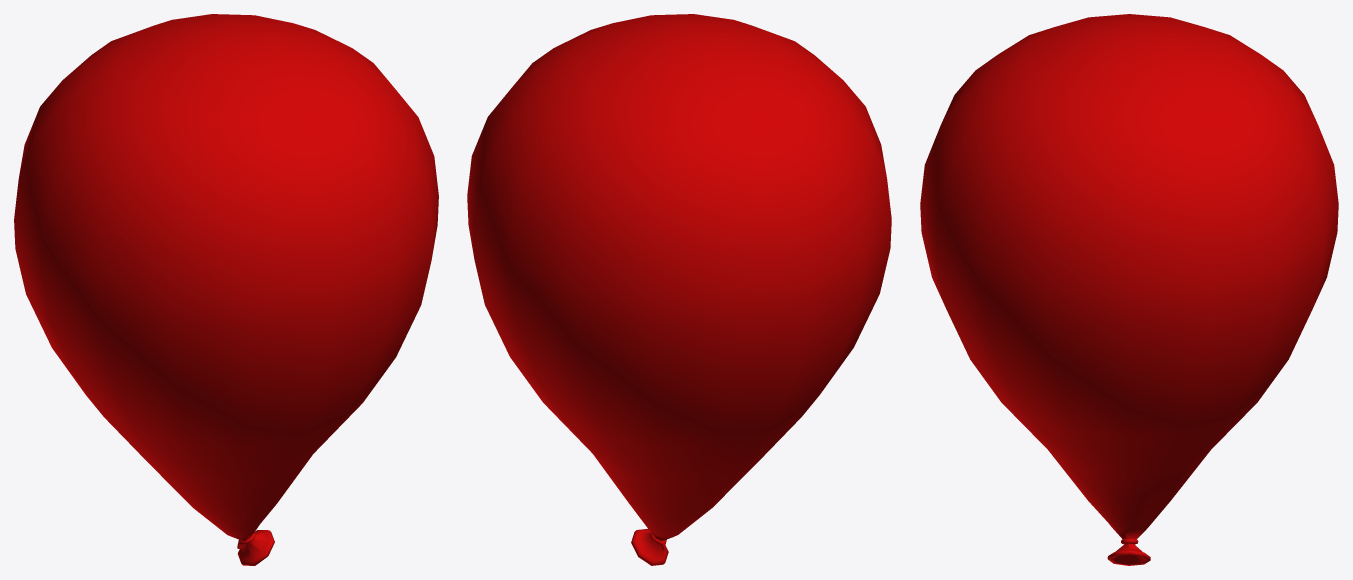
Rendered from redBloon.glb.
The picture shows the model from 3 angles, left to right: view 1: azimuth 30°, elevation 25°; view 2: azimuth 150°, elevation 25°; view 3: azimuth 270°, elevation 25°; orthographic projection. The views are drawn at different scales.
Bounding box in the file's own units: 0.2884 × 0.3944 × 0.2884.
